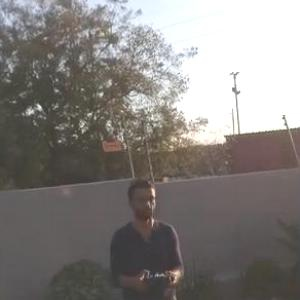follow: (104, 171, 193, 299)
